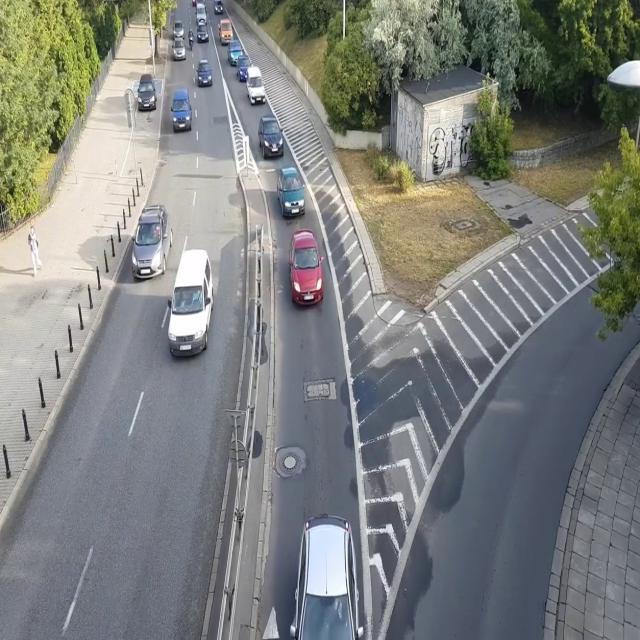car: (290, 513, 363, 640), (130, 203, 174, 285), (288, 228, 325, 309), (276, 167, 307, 220), (258, 115, 284, 159), (136, 74, 158, 110), (195, 58, 214, 88), (237, 54, 253, 82), (228, 40, 243, 66), (172, 37, 186, 63), (196, 22, 209, 44), (173, 19, 185, 40), (213, 0, 224, 15), (191, 0, 200, 6)
motorcycle: (188, 27, 194, 53)
truck: (216, 18, 234, 44)
van: (167, 248, 214, 359), (170, 86, 194, 134), (245, 66, 268, 105), (194, 2, 208, 25)
